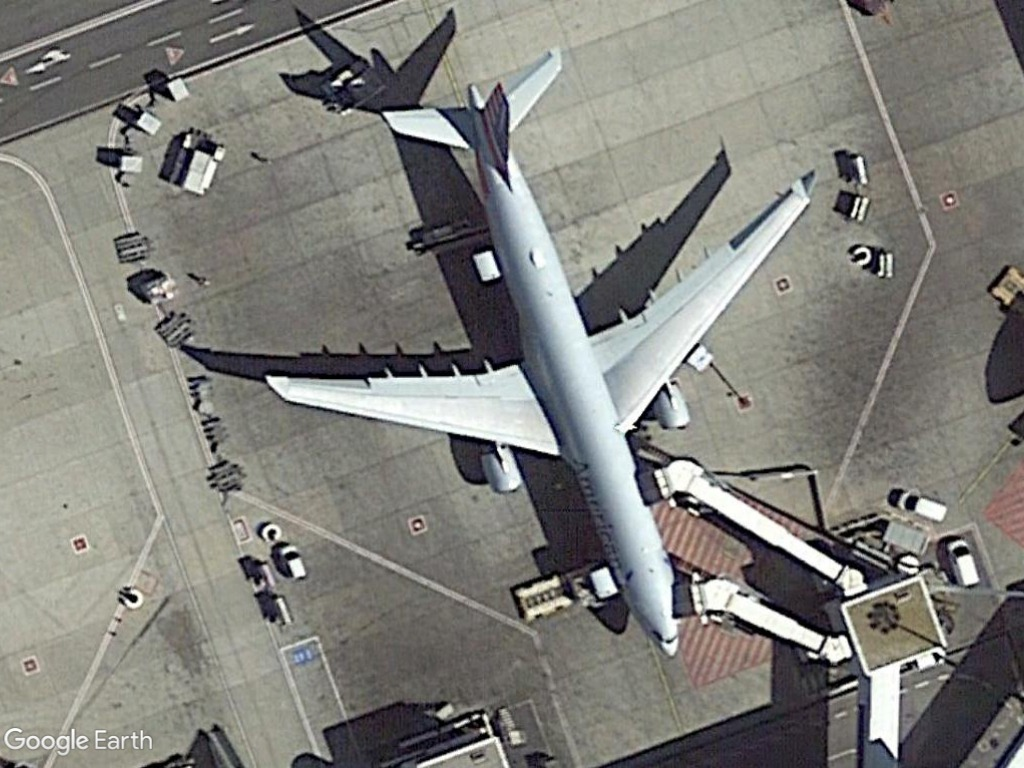airliner: (250, 44, 826, 662)
van: (939, 532, 981, 591), (889, 486, 951, 525), (275, 542, 310, 584)
